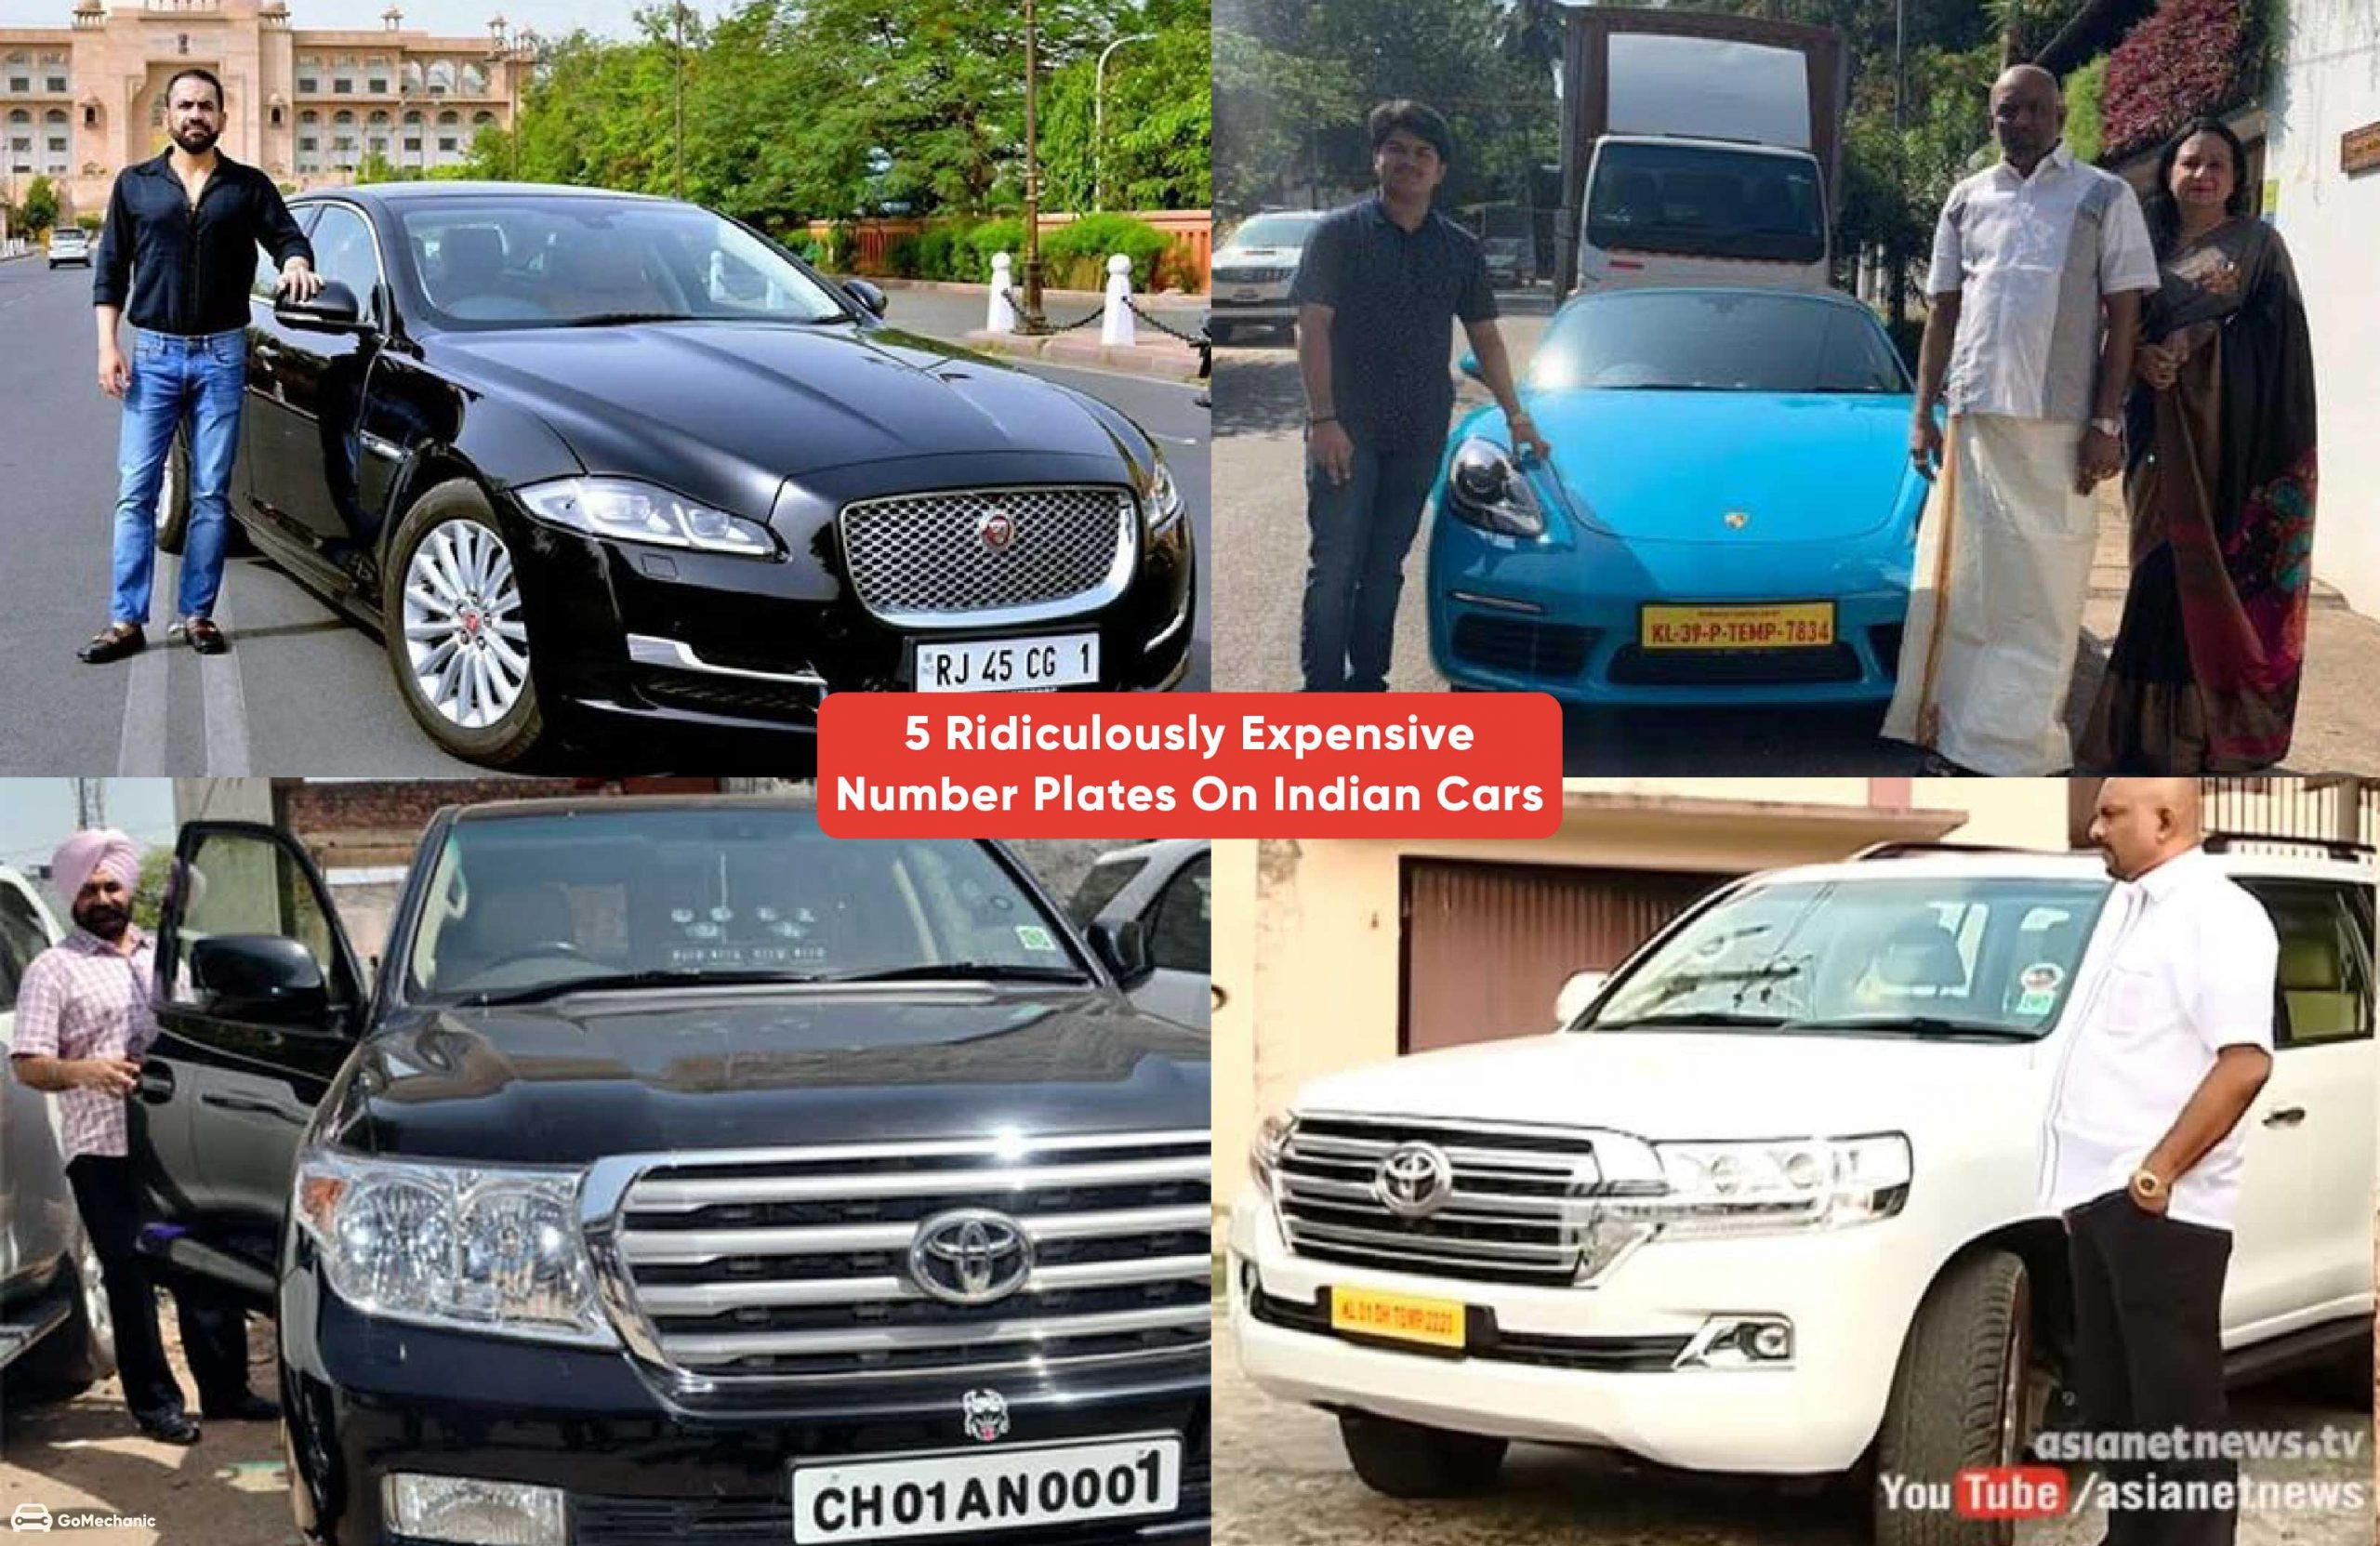numberplate: (782, 1434, 1203, 1540), (1316, 1284, 1501, 1354), (1641, 591, 1844, 655), (907, 636, 1103, 694)
